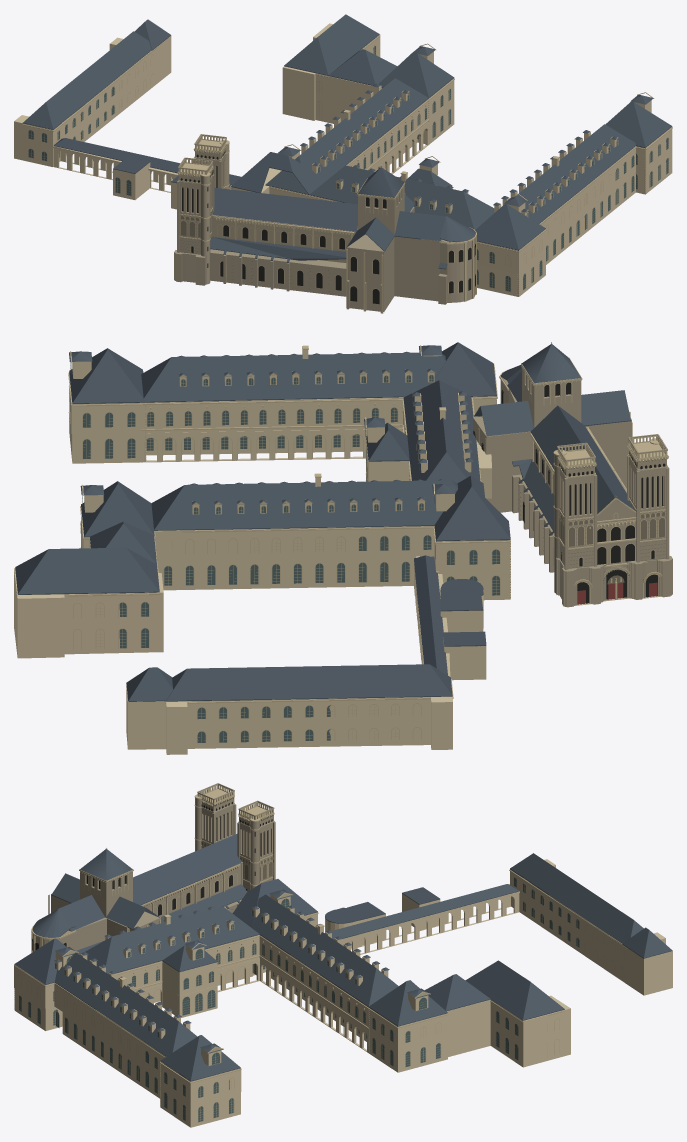
File: abbaye-aux-dames-near.glb
The picture shows the model from 3 angles, top to bottom: view 1: azimuth 30°, elevation 25°; view 2: azimuth 150°, elevation 25°; view 3: azimuth 270°, elevation 25°; orthographic projection. The views are drawn at different scales.
Parts seen in each view (by area): view 1: abbaye-aux-dames-0-roof, abbaye-aux-dames-0-weather, abbaye-aux-dames-0-stone, abbaye-aux-dames-0-trim, abbaye-aux-dames-0-glass, abbaye-aux-dames-0-recess, abbaye-aux-dames-0-iron; view 2: abbaye-aux-dames-0-roof, abbaye-aux-dames-0-weather, abbaye-aux-dames-0-stone, abbaye-aux-dames-0-trim, abbaye-aux-dames-0-glass, abbaye-aux-dames-0-recess, abbaye-aux-dames-0-iron; view 3: abbaye-aux-dames-0-roof, abbaye-aux-dames-0-weather, abbaye-aux-dames-0-trim, abbaye-aux-dames-0-stone, abbaye-aux-dames-0-glass, abbaye-aux-dames-0-recess.
Boxes of the visible parts, bbox=[...] form: abbaye-aux-dames-0-roof: bbox=[23, 14, 672, 269]; abbaye-aux-dames-0-weather: bbox=[14, 23, 672, 296]; abbaye-aux-dames-0-stone: bbox=[174, 134, 475, 313]; abbaye-aux-dames-0-trim: bbox=[22, 35, 672, 313]; abbaye-aux-dames-0-glass: bbox=[28, 46, 668, 291]; abbaye-aux-dames-0-recess: bbox=[180, 151, 475, 304]; abbaye-aux-dames-0-iron: bbox=[180, 166, 381, 291]; abbaye-aux-dames-0-roof: bbox=[15, 342, 634, 701]; abbaye-aux-dames-0-weather: bbox=[14, 345, 510, 754]; abbaye-aux-dames-0-stone: bbox=[473, 367, 672, 607]; abbaye-aux-dames-0-trim: bbox=[16, 345, 668, 743]; abbaye-aux-dames-0-glass: bbox=[69, 362, 499, 742]; abbaye-aux-dames-0-recess: bbox=[473, 382, 665, 603]; abbaye-aux-dames-0-iron: bbox=[518, 342, 665, 584]; abbaye-aux-dames-0-roof: bbox=[14, 834, 672, 1081]; abbaye-aux-dames-0-weather: bbox=[14, 859, 672, 1127]; abbaye-aux-dames-0-trim: bbox=[14, 784, 628, 1122]; abbaye-aux-dames-0-stone: bbox=[32, 783, 275, 950]; abbaye-aux-dames-0-glass: bbox=[19, 877, 579, 1122]; abbaye-aux-dames-0-recess: bbox=[32, 802, 272, 951].
Size of the model in its own units: 153 by 35.95 by 181.
